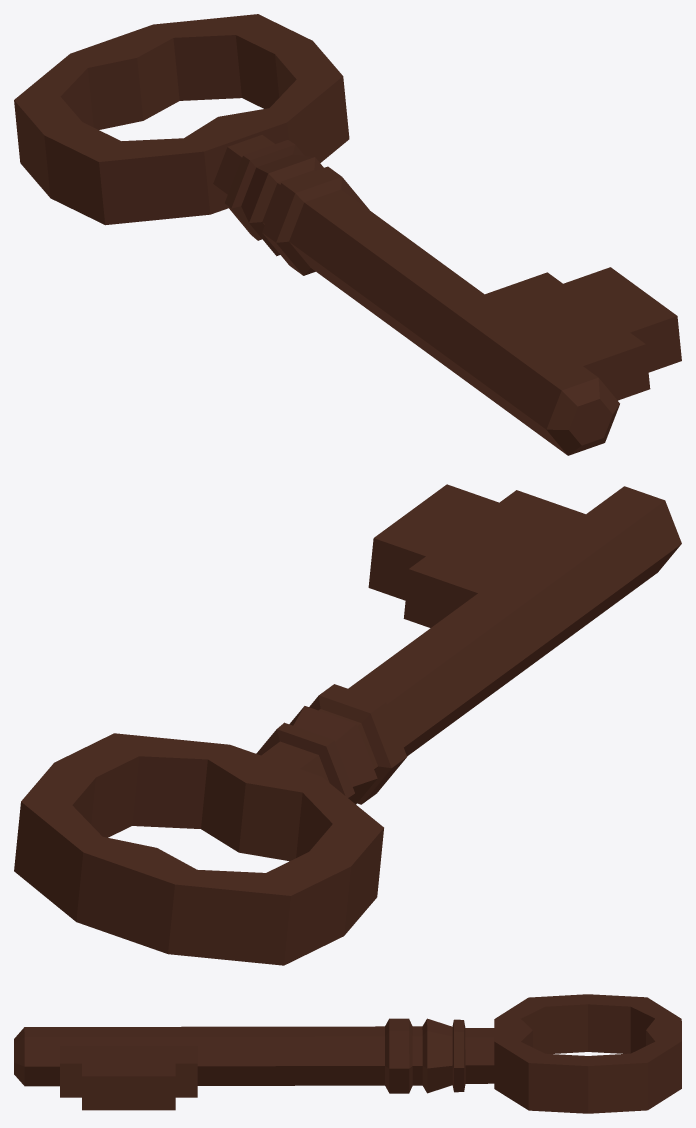
The model's file is key1.glb.
3 views of the same model, one above another, from view 1: azimuth 30°, elevation 25°; view 2: azimuth 150°, elevation 25°; view 3: azimuth 270°, elevation 25° (orthographic). The views are drawn at different scales.
Parts seen in each view (by area): view 1: Key1; view 2: Key1; view 3: Key1.
Part boxes in pixels (x1,y1,x2,y2): Key1: [14, 14, 681, 455]; Key1: [14, 484, 681, 965]; Key1: [14, 994, 681, 1113].
Size of the model in its own units: 29.22 by 9.53 by 86.66.
